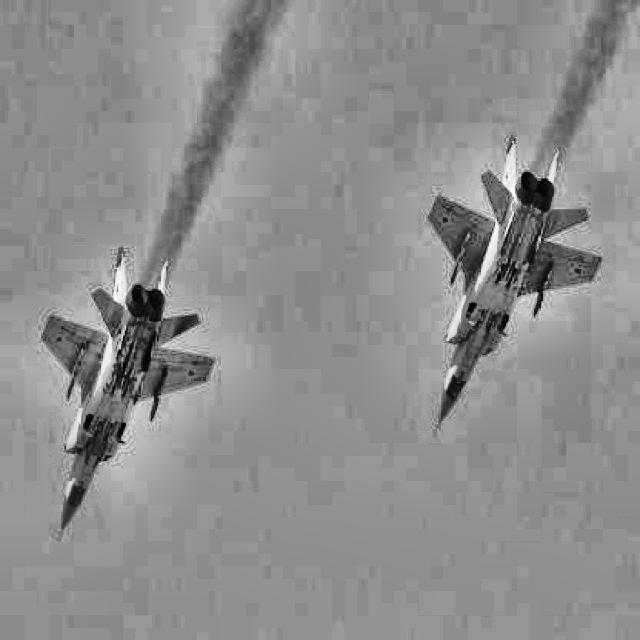Mig31: (427, 133, 602, 435), (41, 247, 214, 542)
